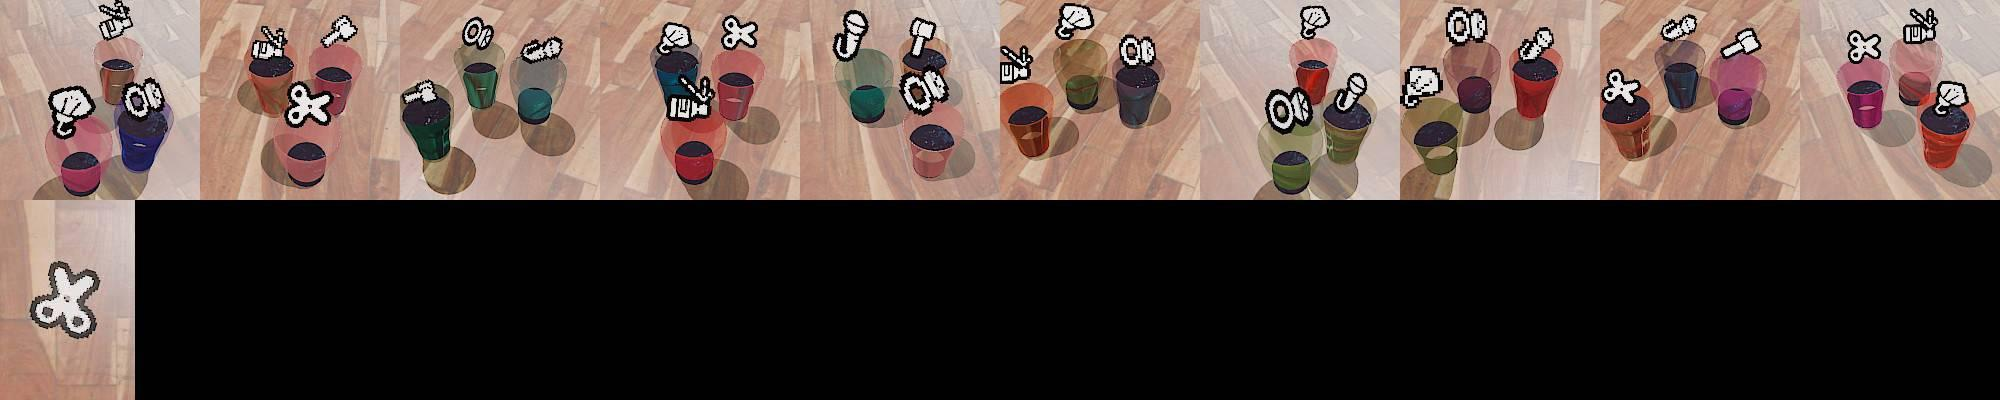icon: (28, 260, 102, 341), (46, 87, 97, 141), (666, 73, 717, 121), (899, 65, 949, 113), (1267, 84, 1314, 134), (284, 80, 334, 127), (833, 9, 871, 60), (124, 76, 167, 120), (1402, 64, 1444, 107), (1445, 5, 1489, 46), (999, 41, 1034, 87), (249, 24, 290, 64), (1602, 68, 1642, 106), (1055, 3, 1096, 39), (1334, 71, 1369, 115), (98, 1, 135, 41), (1518, 25, 1556, 62), (719, 15, 759, 51), (656, 20, 695, 56), (1719, 25, 1761, 59), (1903, 6, 1939, 45), (1119, 33, 1157, 69), (1932, 80, 1968, 116), (320, 15, 358, 48), (519, 36, 564, 62), (1846, 29, 1881, 62), (907, 17, 937, 55), (460, 17, 494, 51), (402, 79, 440, 108), (1659, 13, 1698, 42), (1298, 5, 1330, 39)
